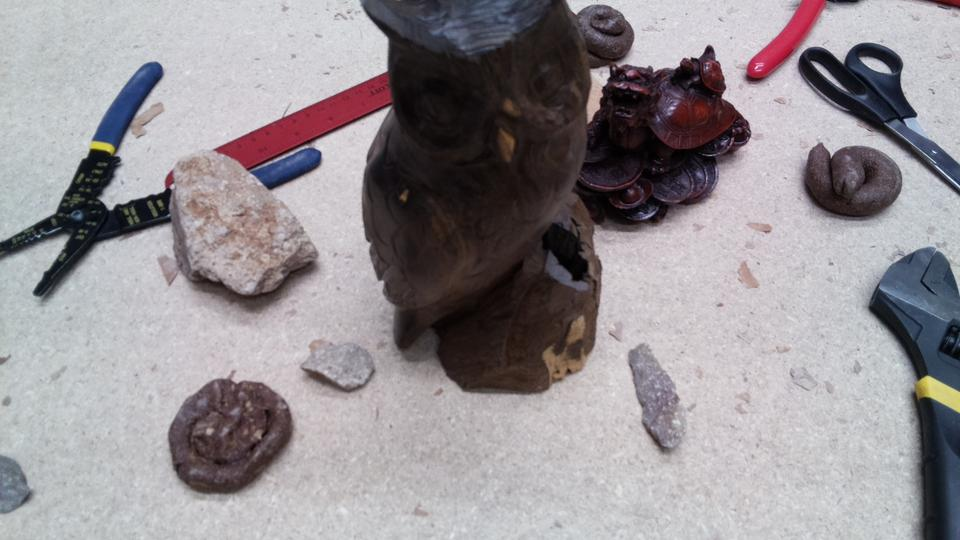poop: (161, 373, 295, 501), (798, 135, 907, 226), (568, 1, 642, 69)
